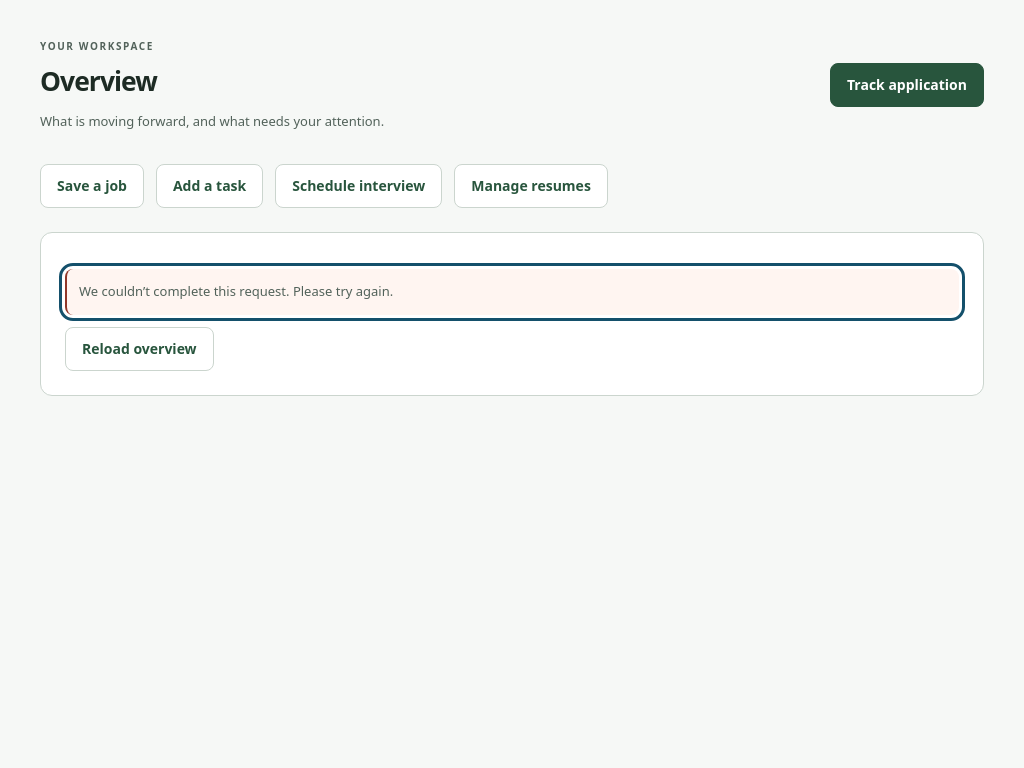
Test: does not replace a failed load with zero statistics and can retry
Expected: the message "We couldn’t complete this request. Please try again." is shown, [65,269,959,314]
Click the button "Reload overview". click: (139, 348)
box: [65,326,214,370]
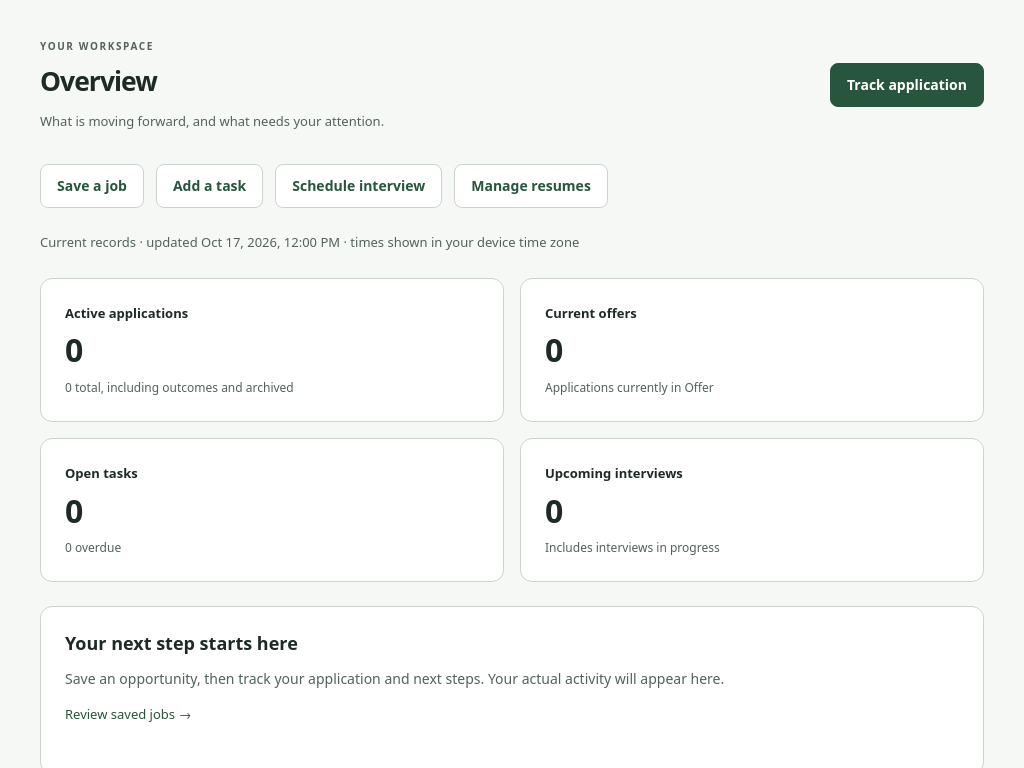
Now the heading "Your next step starts here" is shown, box [65,631,298,655]
